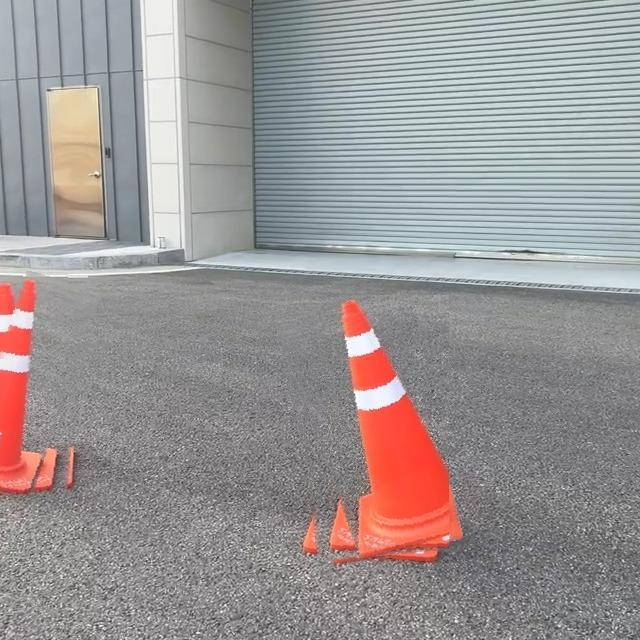fallen_object: (245, 249, 501, 592), (0, 273, 142, 500)
